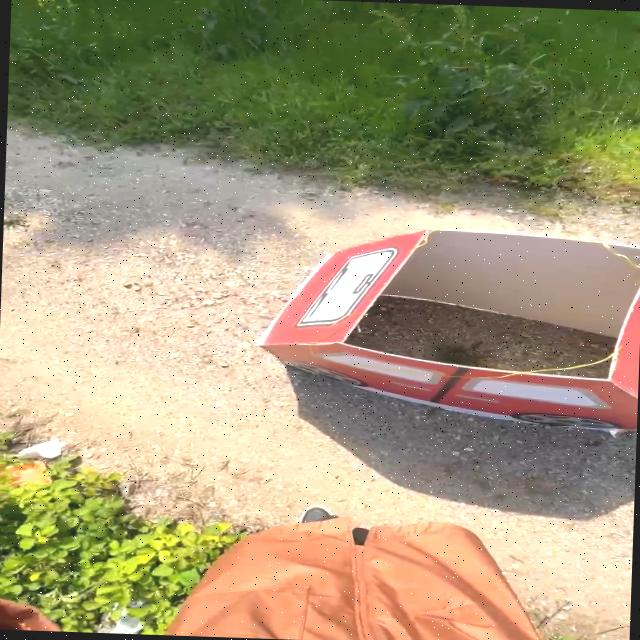red_car: (226, 216, 640, 453)
